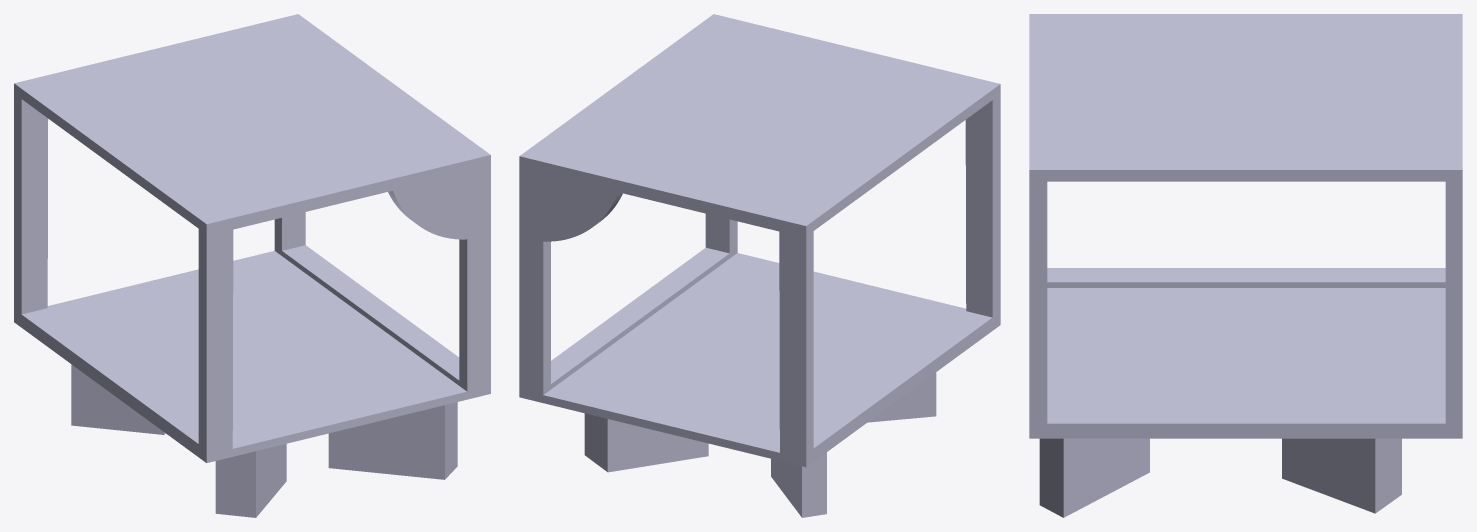
The model's file is Krytn_tray_ex_Krytn_tray.dae.
3 renders of one model, left to right at view 1: azimuth 30°, elevation 25°; view 2: azimuth 150°, elevation 25°; view 3: azimuth 270°, elevation 25°, orthographic. The views are drawn at different scales.
Parts seen in each view (by area): view 1: node0; view 2: node0; view 3: node0.
Boxes of the visible parts, left/top/right/bottom form: node0: left=14, top=14, right=490, bottom=517; node0: left=519, top=14, right=1000, bottom=517; node0: left=1029, top=14, right=1462, bottom=517.
Bounding box in the file's own units: 0.2812 × 0.33 × 0.3009.
